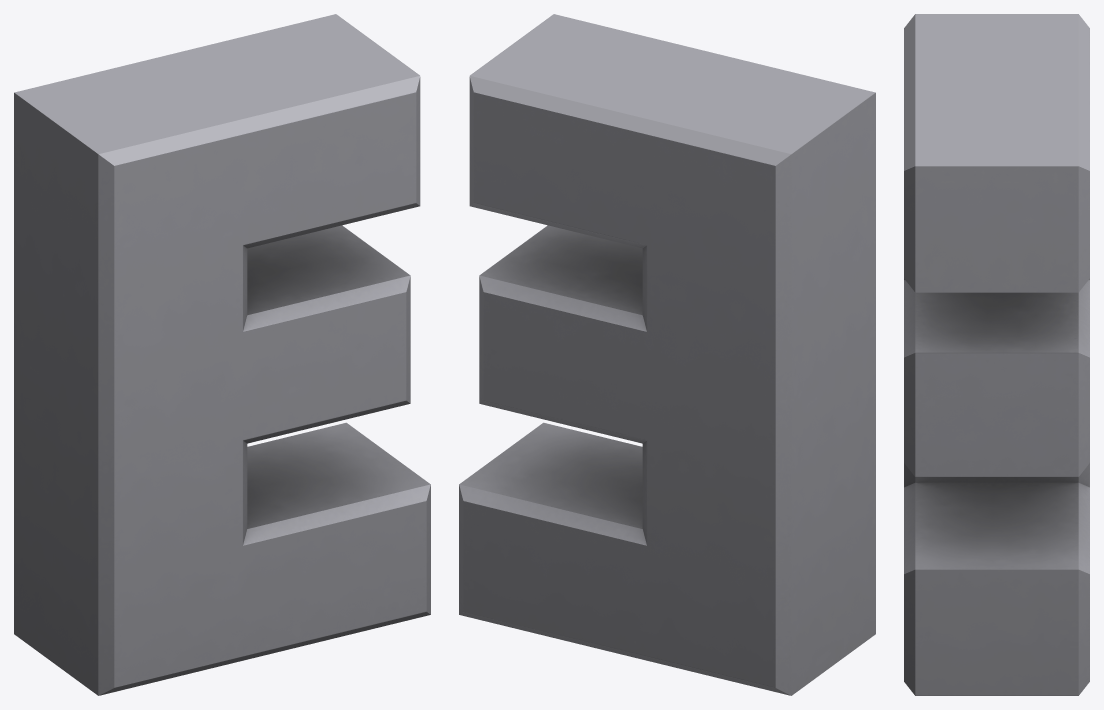
The model's file is E_static.fbx.
3 renders of one model, left to right at view 1: azimuth 30°, elevation 25°; view 2: azimuth 150°, elevation 25°; view 3: azimuth 270°, elevation 25°, orthographic. The views are drawn at different scales.
Visible parts, largest first — view 1: E_static; view 2: E_static; view 3: E_static.
Boxes of the visible parts, x1,y1,x2,y2 form: E_static: (14,14,430,695); E_static: (459,14,875,695); E_static: (904,14,1089,695).
Size of the model in its own units: 65.99 by 103 by 33.
